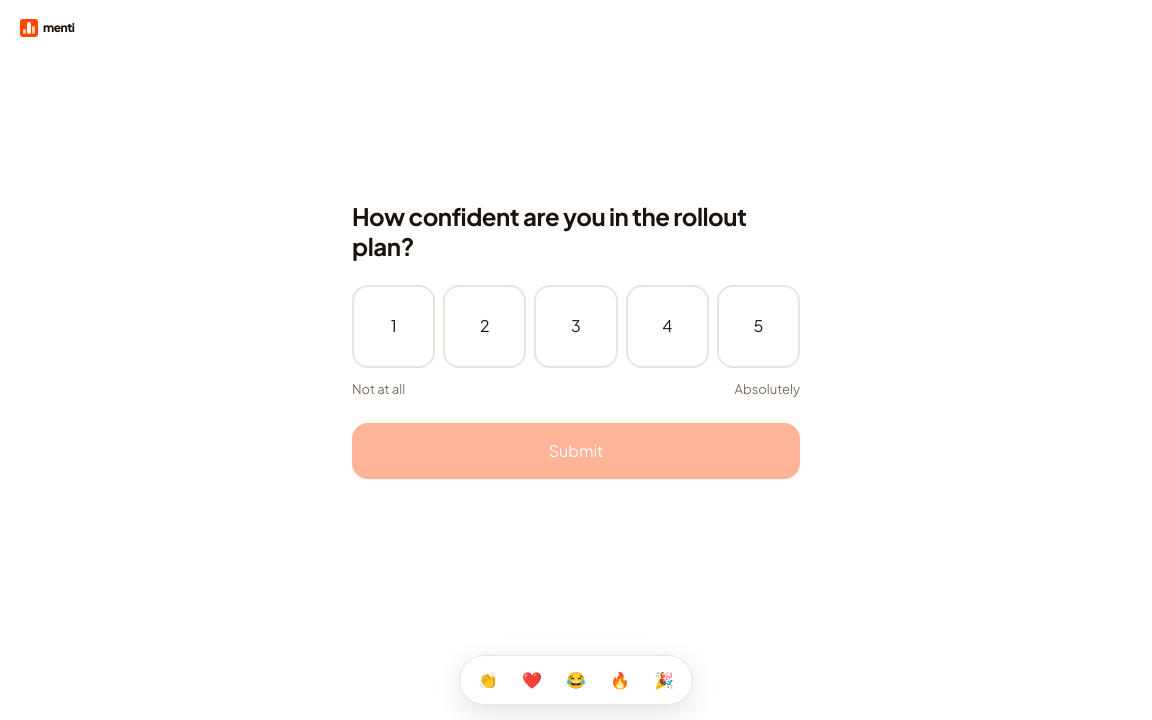
VotePage › submits a scales response and shows the confirmation state
Expected: the heading "How confident are you in the rollout plan?" is shown, left=352, top=201, right=800, bottom=261
Click the radio button named "rate 4 out of 5" at (667, 326), box left=626, top=285, right=709, bottom=368
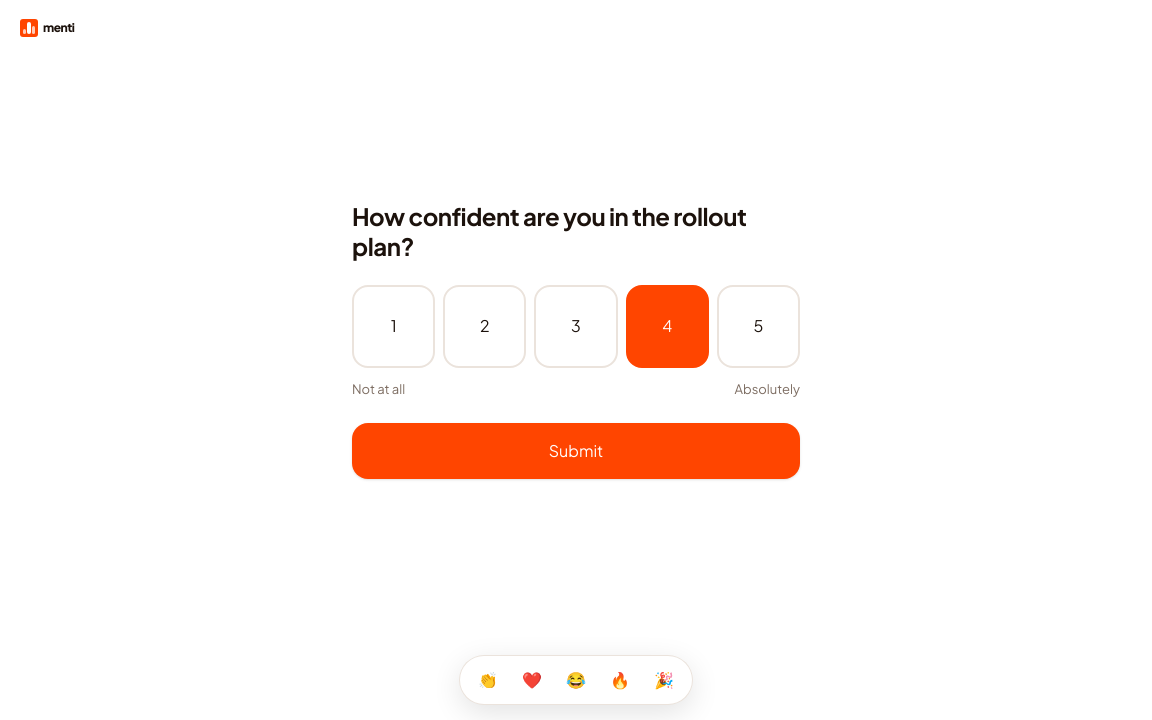
Click the button "Submit" at (576, 451), box left=352, top=423, right=800, bottom=479
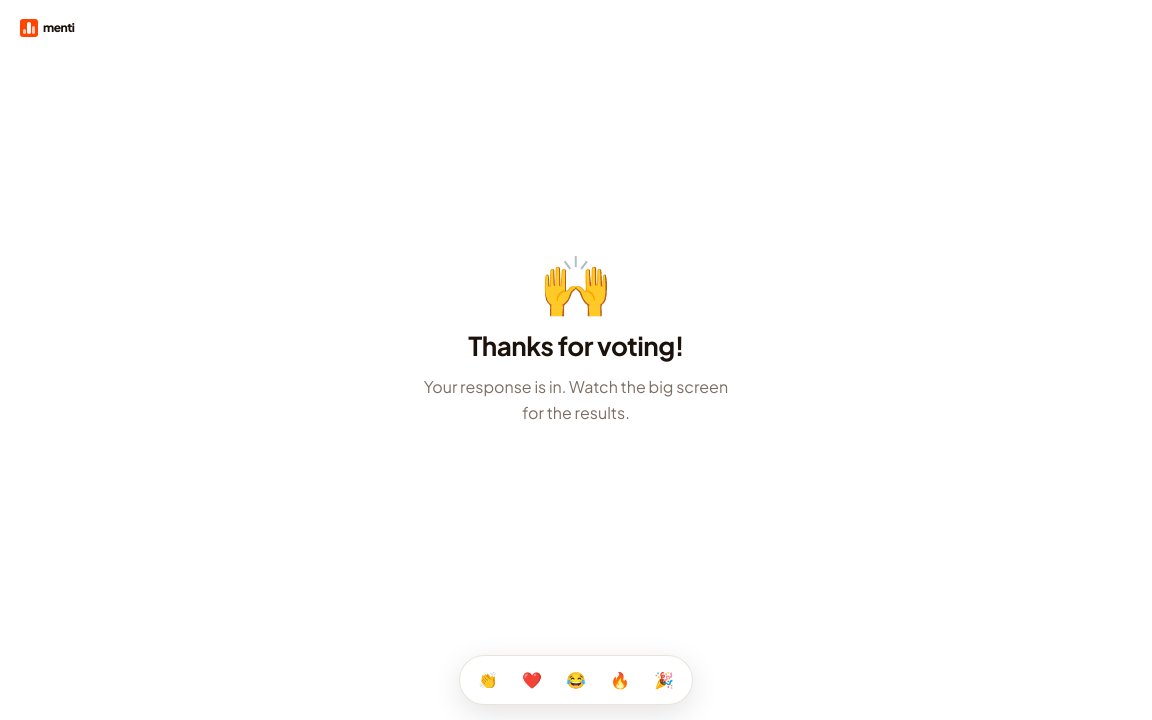
Result: the heading "Thanks for voting!" is shown at left=468, top=329, right=684, bottom=362
